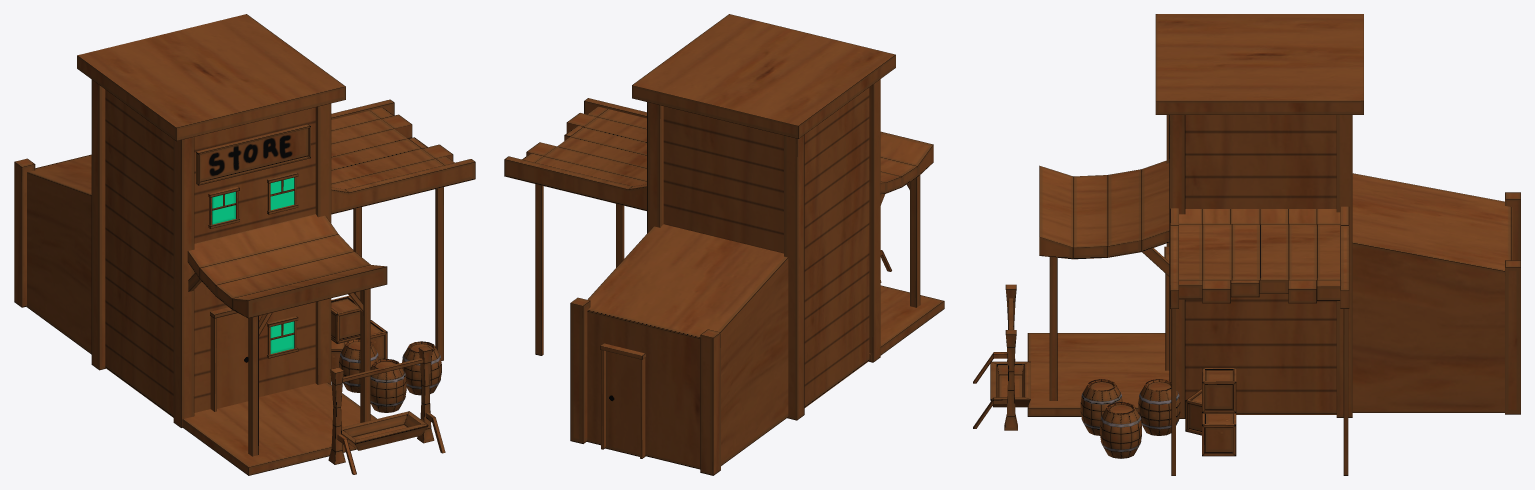
Rendered from 잡화점3.fbx.
3 renders of one model, left to right at view 1: azimuth 30°, elevation 25°; view 2: azimuth 150°, elevation 25°; view 3: azimuth 270°, elevation 25°, orthographic. The views are drawn at different scales.
Parts seen in each view (by area): view 1: Shop3; view 2: Shop3; view 3: Shop3.
Boxes of the visible parts, box(x1,y1,x2,y2) form: Shop3: box(14, 14, 475, 475); Shop3: box(504, 14, 944, 475); Shop3: box(973, 14, 1520, 475).
Bounding box in the file's own units: 217 × 207 × 319.
